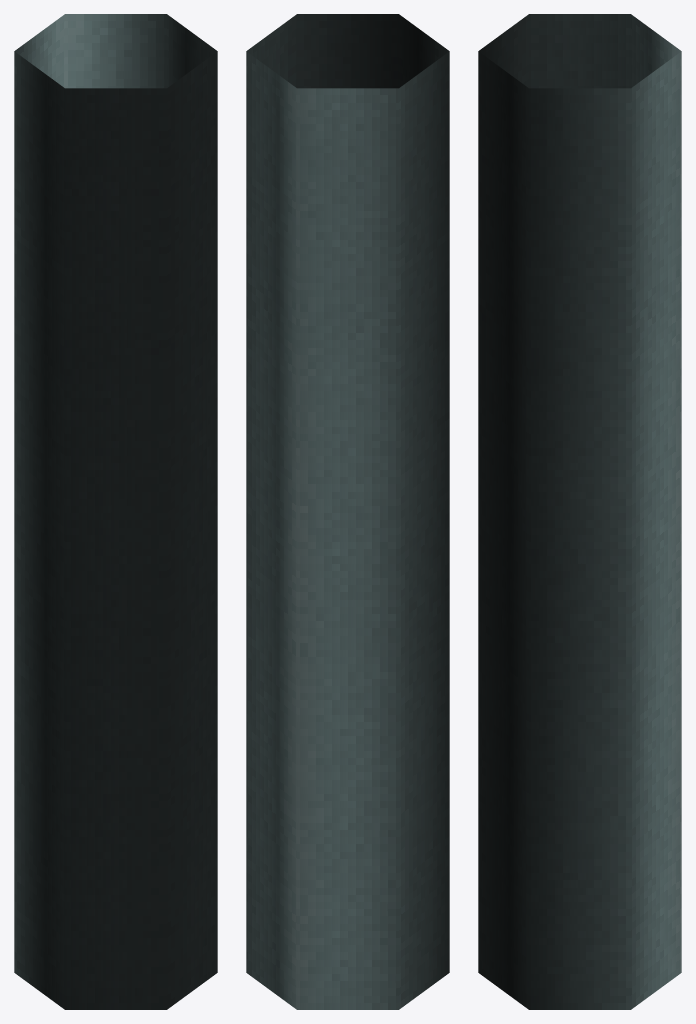
Rendered from roof_pipe_mid_2.glb.
The picture shows the model from 3 angles, left to right: view 1: azimuth 30°, elevation 25°; view 2: azimuth 150°, elevation 25°; view 3: azimuth 270°, elevation 25°; orthographic projection.
Parts seen in each view (by area): view 1: roof_pipe_mid_2; view 2: roof_pipe_mid_2; view 3: roof_pipe_mid_2.
Boxes of the visible parts, box(x1,y1,x2,y2) form: roof_pipe_mid_2: box(14, 14, 217, 1009); roof_pipe_mid_2: box(246, 14, 449, 1009); roof_pipe_mid_2: box(478, 14, 681, 1009).
Size of the model in its own units: 0.3464 by 2 by 0.4.
Materials: 1 (1 with a texture image).
